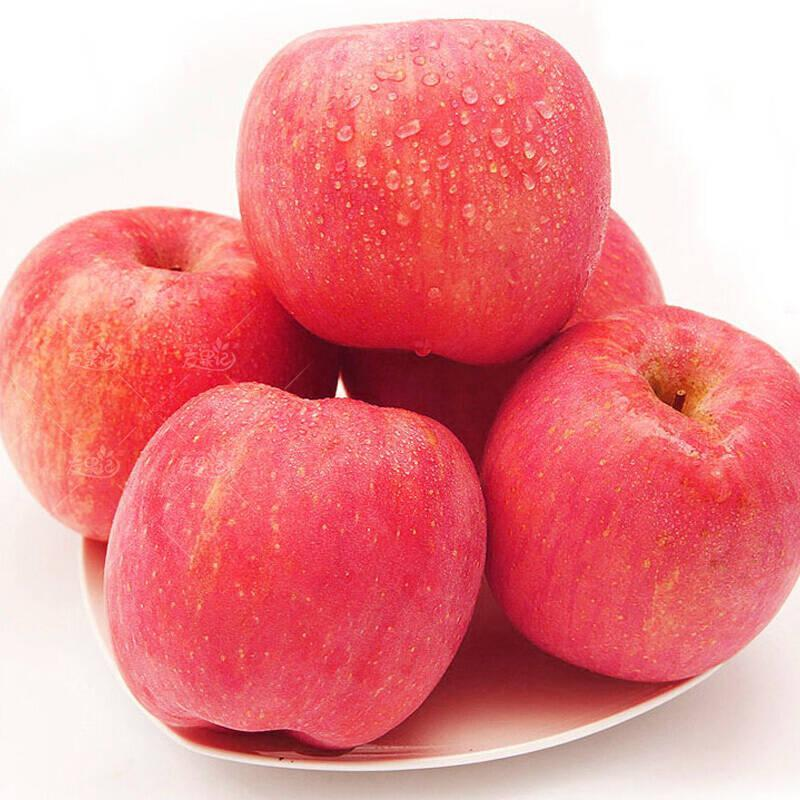apple: (104, 391, 489, 757), (228, 17, 618, 369), (469, 325, 794, 694), (1, 212, 312, 558)
